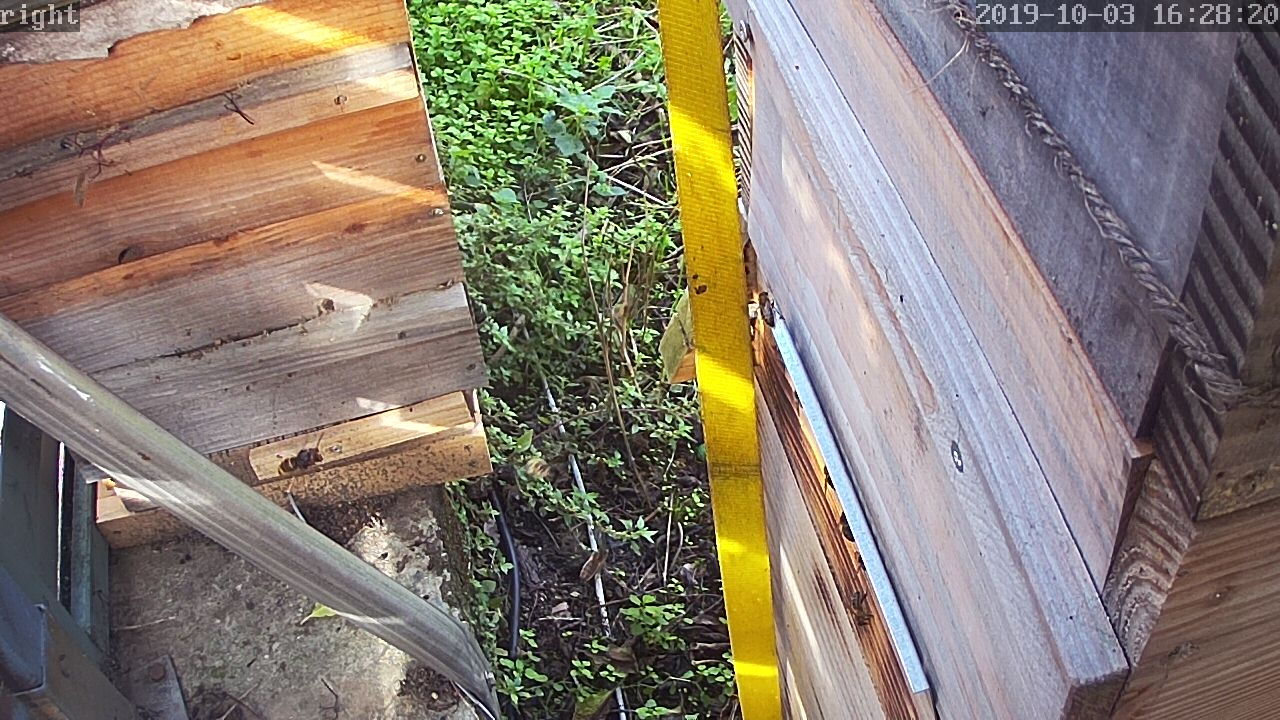bee: (844, 597, 879, 631), (834, 509, 859, 549)
hornet: (272, 436, 333, 480)
